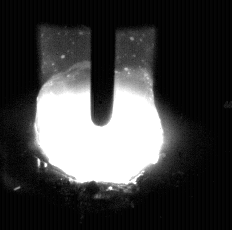arame: (92, 0, 116, 127)
poca: (33, 0, 165, 230)
